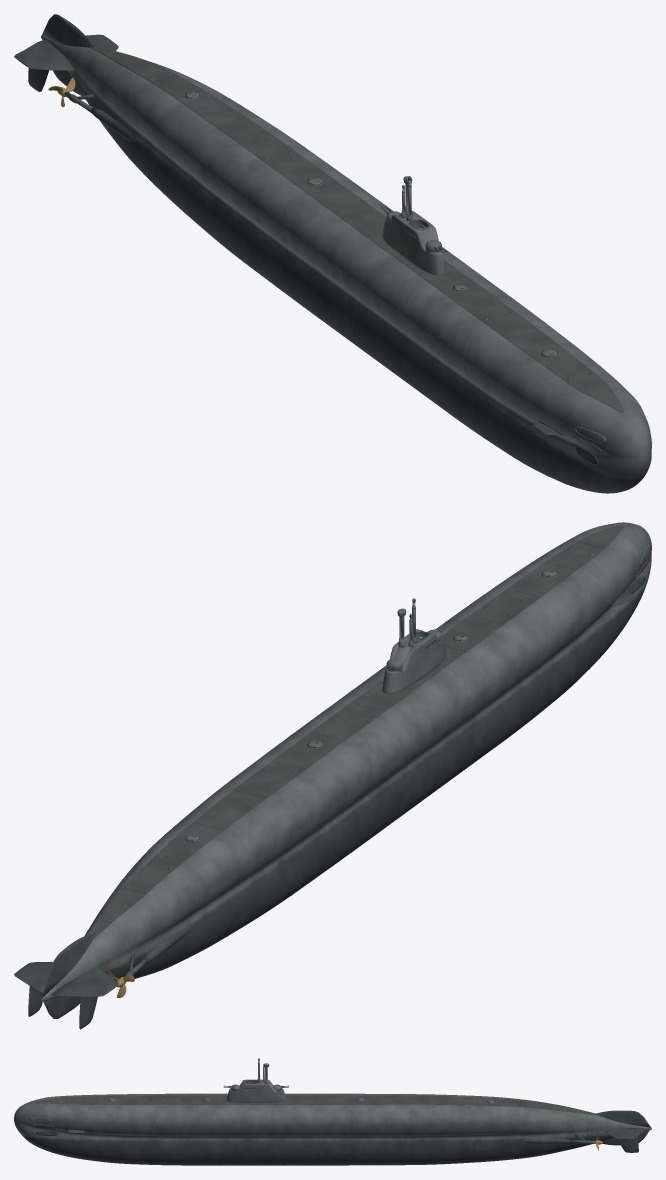
Rendered from uboat-xxi.glb.
The picture shows the model from 3 angles, top to bottom: view 1: azimuth 30°, elevation 25°; view 2: azimuth 150°, elevation 25°; view 3: azimuth 270°, elevation 25°; orthographic projection. The views are drawn at different scales.
Visible parts, largest first — view 1: hull, deck_plating, stern_planes, sail, shell_welds, shaft_fairings_and_brackets, bow_shutter_panels; view 2: hull, deck_plating, stern_planes, sail, shell_welds, rudders; view 3: hull, deck_plating, stern_planes, sail, shell_welds, shaft_fairings_and_brackets, bow_shutter_panels, rudders.
Part boxes in pixels (box(x1,y1,x2,y2)): hull: box(41, 35, 651, 493); deck_plating: box(88, 46, 623, 412); stern_planes: box(14, 14, 118, 95); sail: box(382, 211, 446, 275); shell_welds: box(84, 52, 600, 474); shaft_fairings_and_brackets: box(64, 91, 135, 142); bow_shutter_panels: box(573, 418, 650, 465); hull: box(41, 522, 651, 1001); deck_plating: box(91, 525, 623, 939); stern_planes: box(14, 933, 118, 1018); sail: box(382, 629, 446, 693); shell_welds: box(88, 558, 605, 979); rudders: box(28, 978, 97, 1029); hull: box(14, 1093, 651, 1165); deck_plating: box(35, 1095, 599, 1115); stern_planes: box(595, 1110, 651, 1145); sail: box(226, 1079, 286, 1102); shell_welds: box(96, 1094, 587, 1165); shaft_fairings_and_brackets: box(522, 1134, 594, 1144); bow_shutter_panels: box(29, 1116, 58, 1135); rudders: box(617, 1133, 638, 1152).
Bounding box in the file's own units: 6.62 × 13.84 × 76.7.
Materials: 10 (10 with a texture image).
